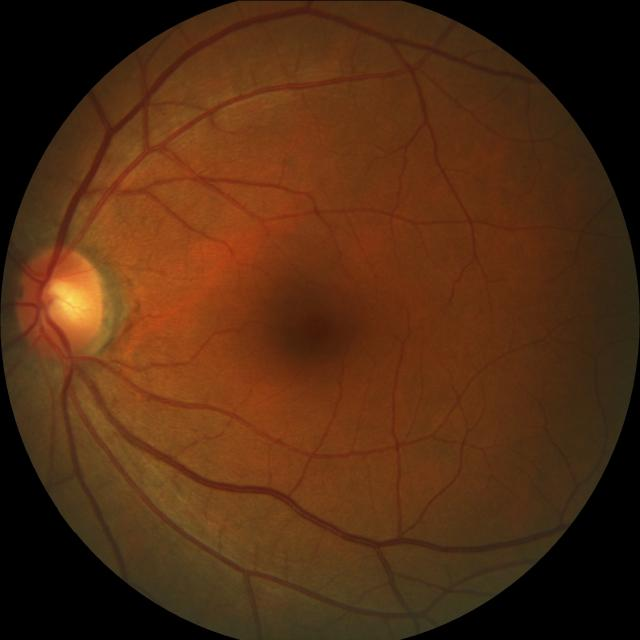OC: (36, 273, 90, 332)
OD: (17, 245, 108, 359)
